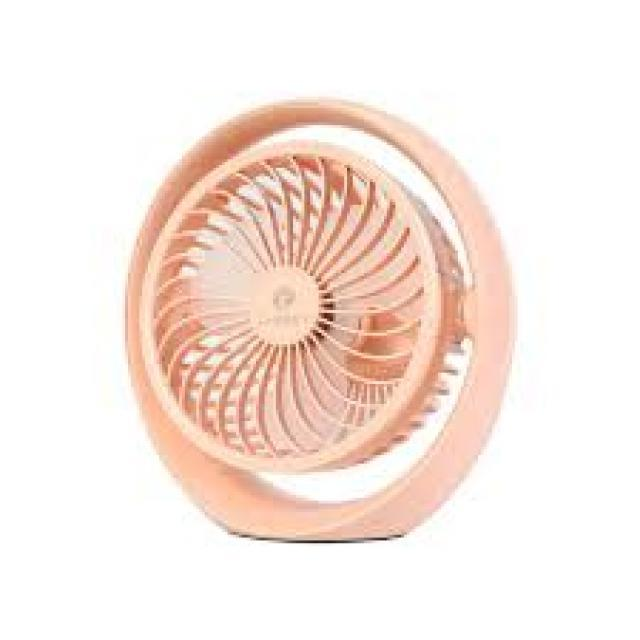fan: (98, 49, 547, 552)
